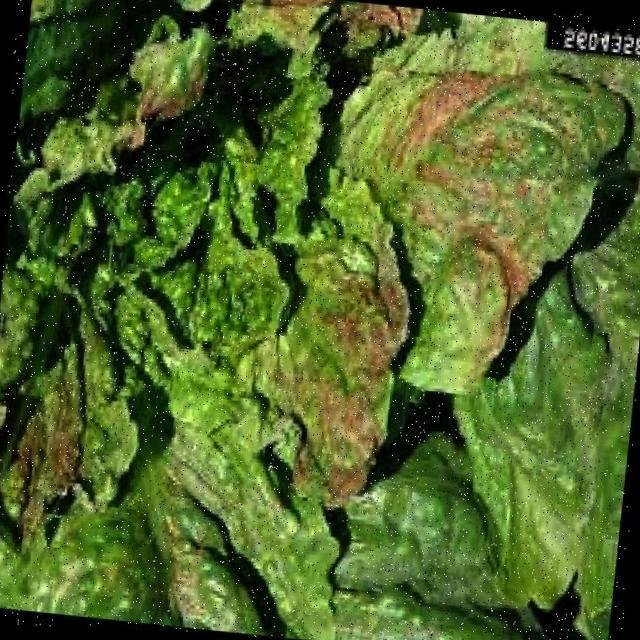Lettuce Mosaic Virus: (0, 150, 398, 617), (397, 45, 597, 276)
